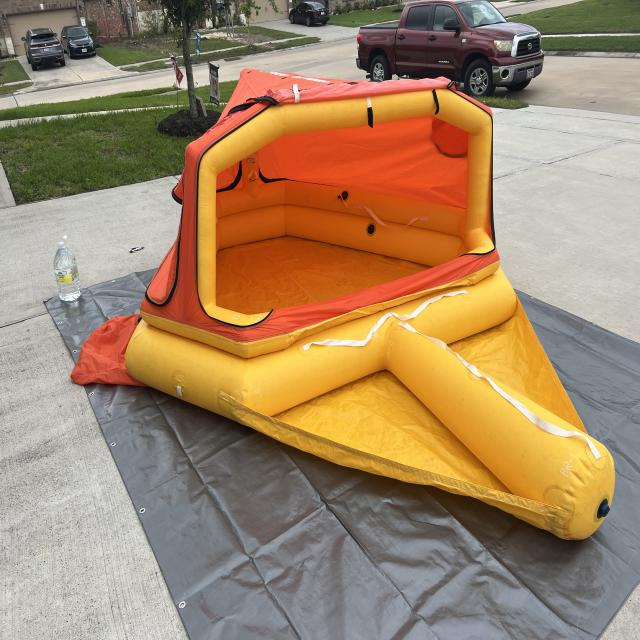Multi-person_life_raft: (70, 68, 614, 542)
